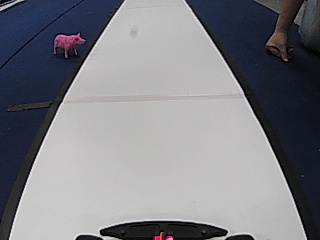pig: (51, 30, 87, 58)
